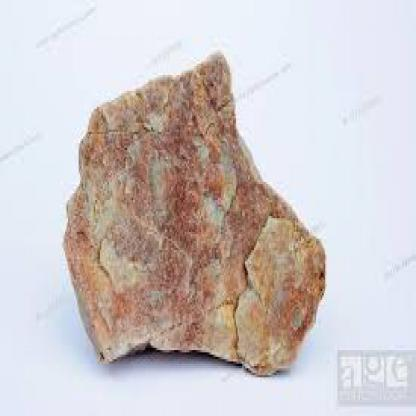Metamorphic_Quartize: (53, 41, 337, 366)
